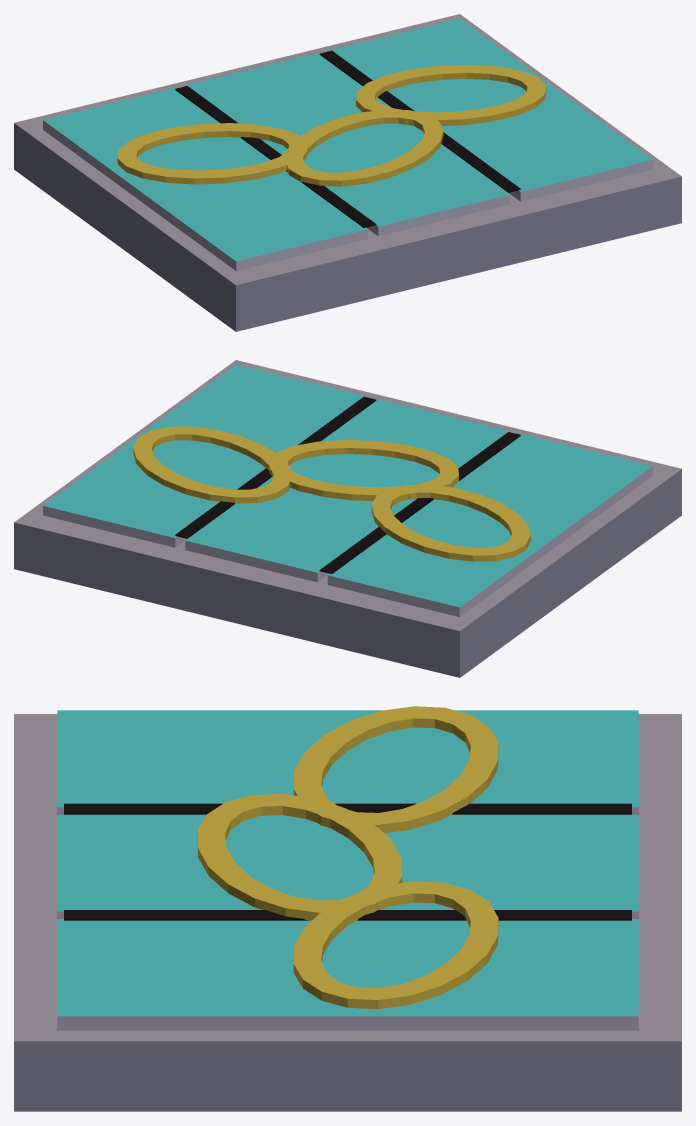
File: star_garden_linked_platform.obj
3 renders of one model, top to bottom at view 1: azimuth 30°, elevation 25°; view 2: azimuth 150°, elevation 25°; view 3: azimuth 270°, elevation 25°, orthographic. The views are drawn at different scales.
Visible parts, largest first — view 1: star_garden_linked_platform; view 2: star_garden_linked_platform; view 3: star_garden_linked_platform.
Boxes of the visible parts, box(x1,y1,x2,y2) form: star_garden_linked_platform: box(14, 14, 681, 331); star_garden_linked_platform: box(14, 360, 681, 677); star_garden_linked_platform: box(14, 706, 681, 1111).
Bounding box in the file's own units: 11.6 × 1.56 × 10.
